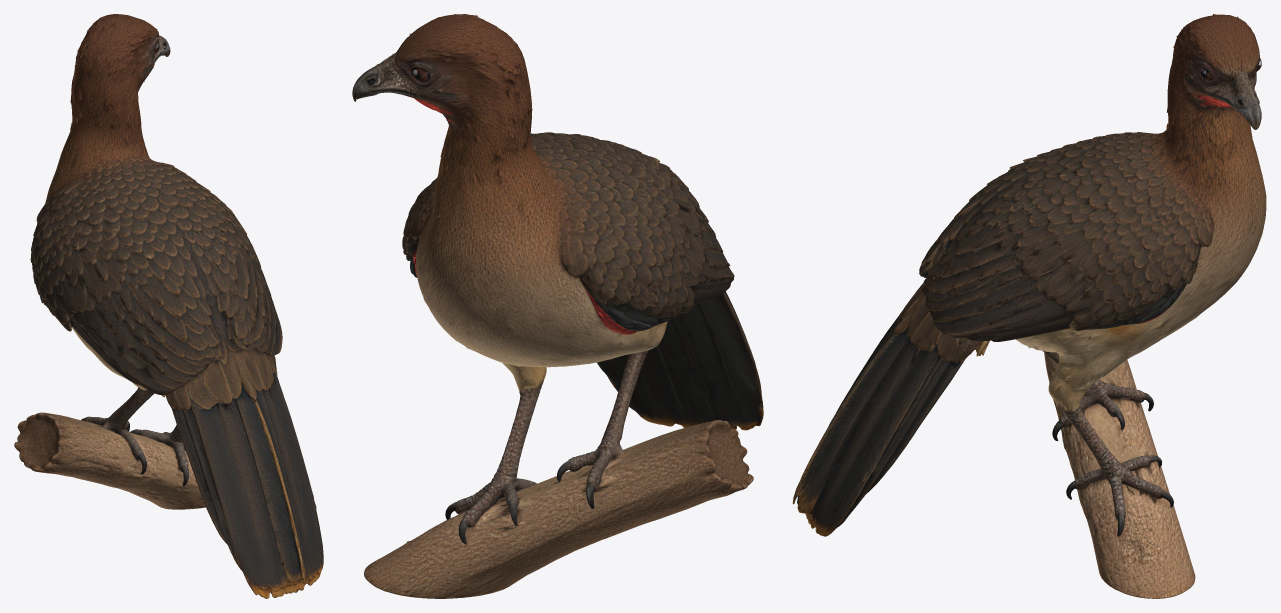
The model's file is aves.glb.
3 views of the same model, side by side, from view 1: azimuth 30°, elevation 25°; view 2: azimuth 150°, elevation 25°; view 3: azimuth 270°, elevation 25° (orthographic). The views are drawn at different scales.
Parts seen in each view (by area): view 1: tripo_node_a693d17e-1f94-40c6-b78e-987637d31957; view 2: tripo_node_a693d17e-1f94-40c6-b78e-987637d31957; view 3: tripo_node_a693d17e-1f94-40c6-b78e-987637d31957.
Part boxes in pixels (bbox=[...]): tripo_node_a693d17e-1f94-40c6-b78e-987637d31957: bbox=[14, 14, 323, 598]; tripo_node_a693d17e-1f94-40c6-b78e-987637d31957: bbox=[352, 14, 763, 598]; tripo_node_a693d17e-1f94-40c6-b78e-987637d31957: bbox=[792, 14, 1266, 598].
Size of the model in its own units: 0.566 by 0.9807 by 0.8015.
Materials: 1 (1 with a texture image).
